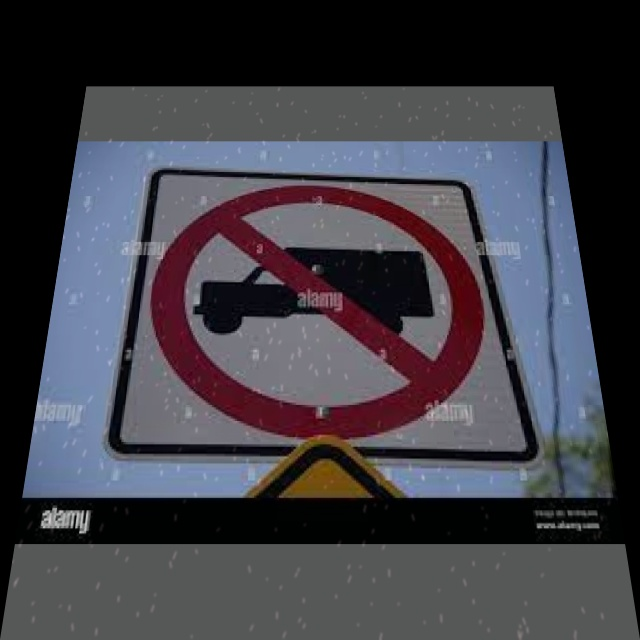Truck_Prohibited: (139, 182, 508, 435)
